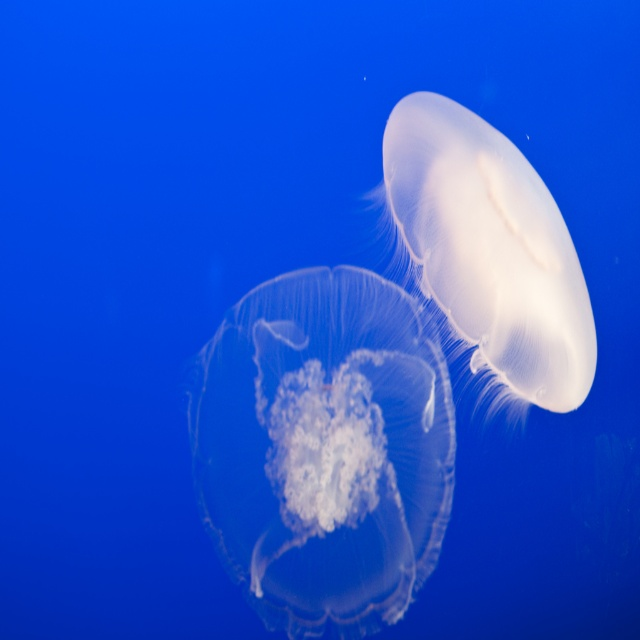Jellyfish: (185, 267, 458, 639), (336, 82, 596, 465)
